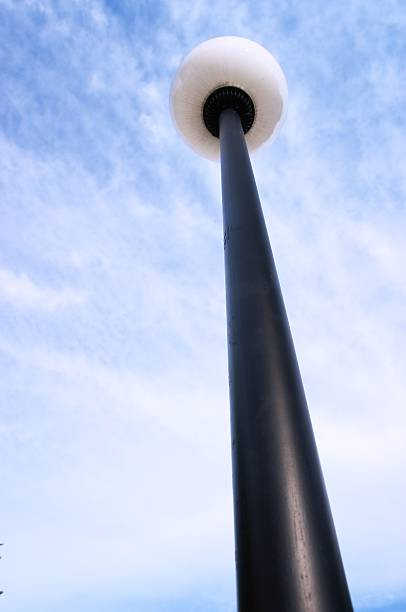light_pole: (213, 112, 354, 611)
